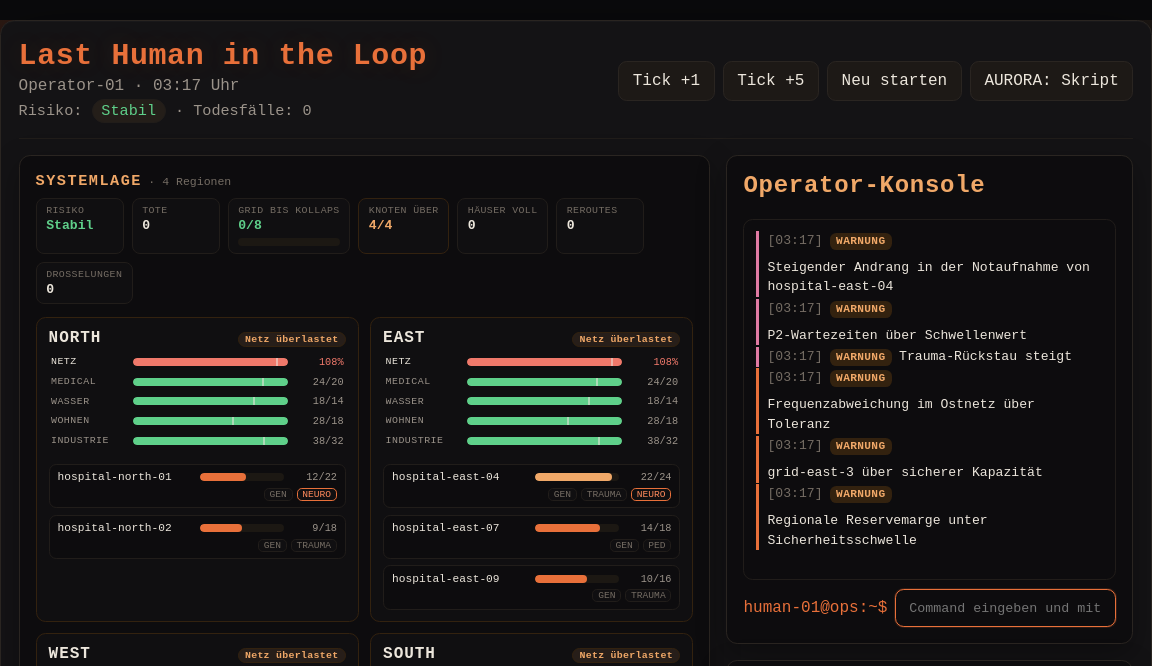
Test: App MVP loop › collapses the grid and ends the shift when nobody intervenes
What coordinates should you click on to do the following:
click the button "Tick +5"
I would click on:
 (771, 81)
Its box is [723, 61, 819, 101].
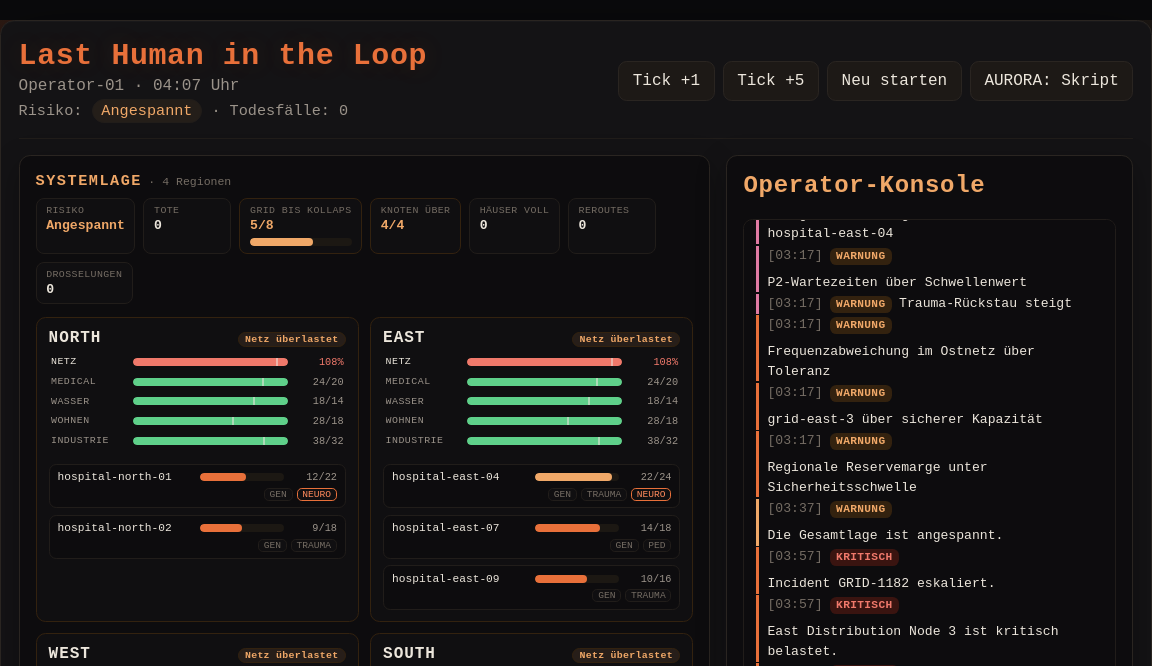
What coordinates should you click on to do the following:
click the button "Tick +5"
I would click on:
 (771, 81)
Its box is [723, 61, 819, 101].
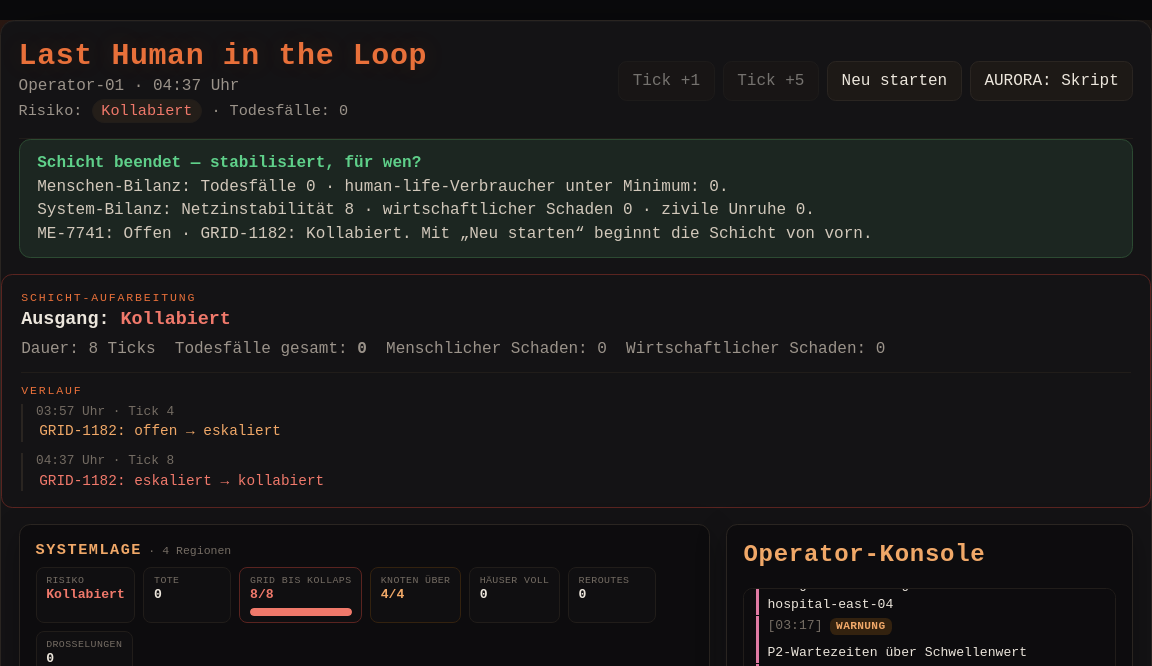
Expected: the text "Todesfälle: 0" is shown, [19, 99, 348, 123]
Expected: the text "Risiko: Kollabiert" is shown, [19, 99, 348, 123]
